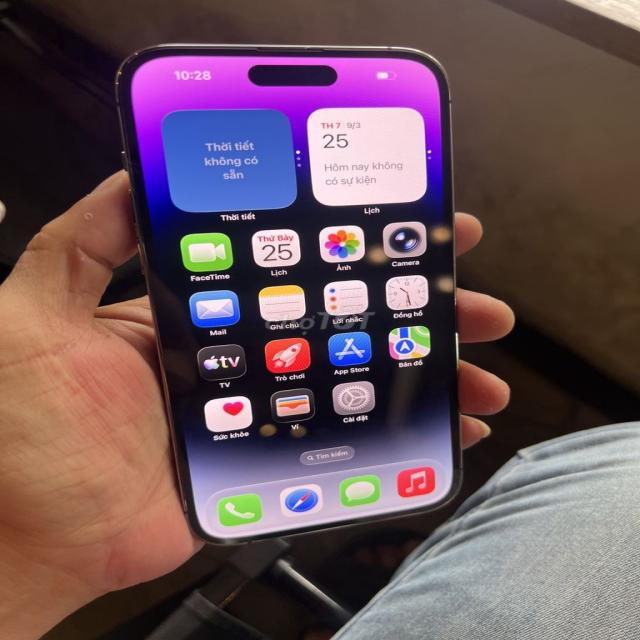gen_14: (118, 25, 481, 544)
